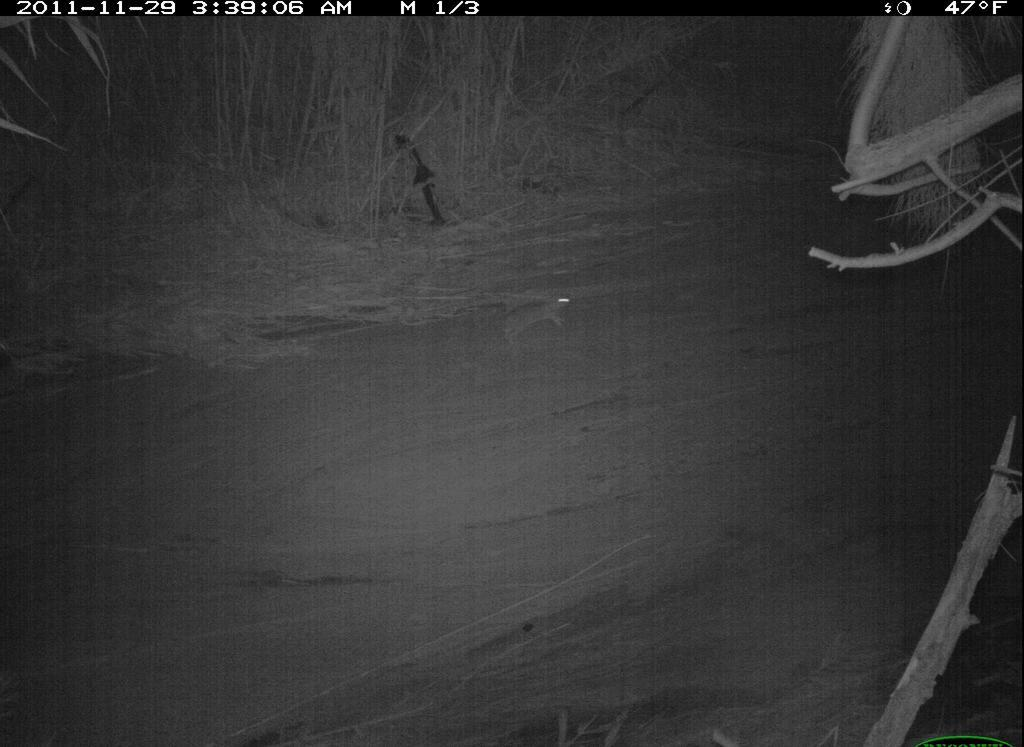rabbit: (498, 274, 585, 351)
